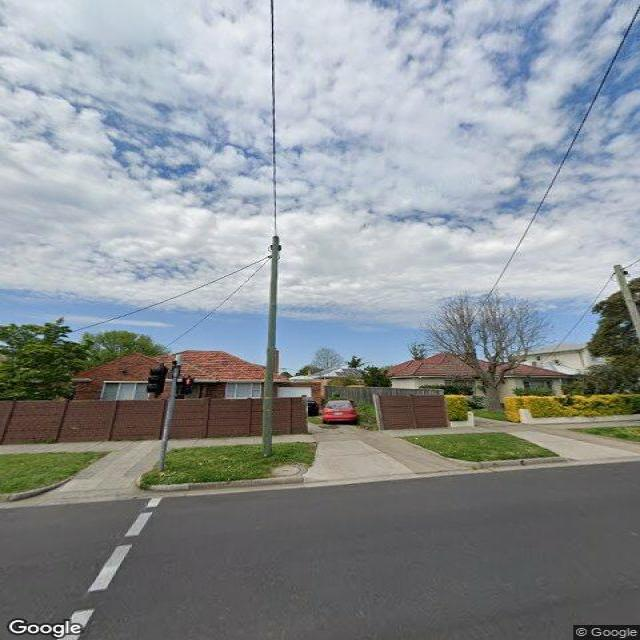steel-pole: (159, 355, 182, 472)
timber-pole: (261, 238, 281, 452)
traffic-light: (146, 364, 168, 398), (181, 377, 195, 395)
